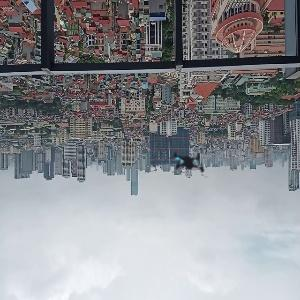drone: (155, 130, 223, 198)
